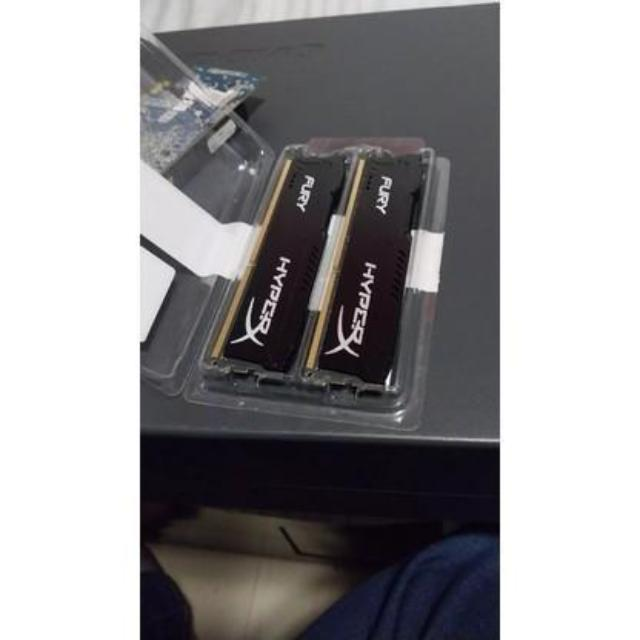RAM: (200, 148, 452, 390)
